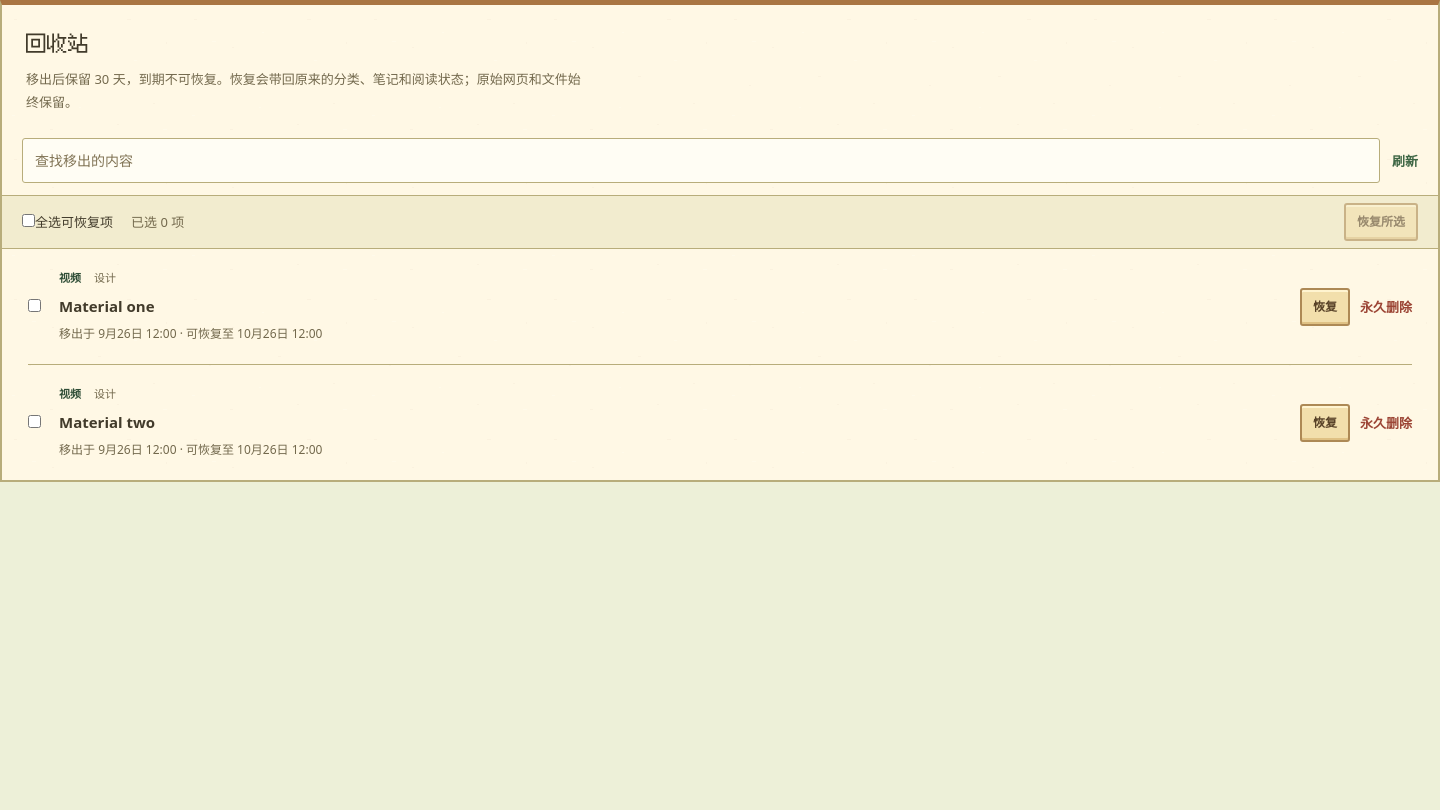
Test: reading recycle bin › keeps the selection after restore fails so the same item can be retried
What coordinates should you click on to do the following:
click the checkbox named "恢复选择：Material one"
I would click on:
 (34, 306)
Its box is left=28, top=299, right=41, bottom=312.
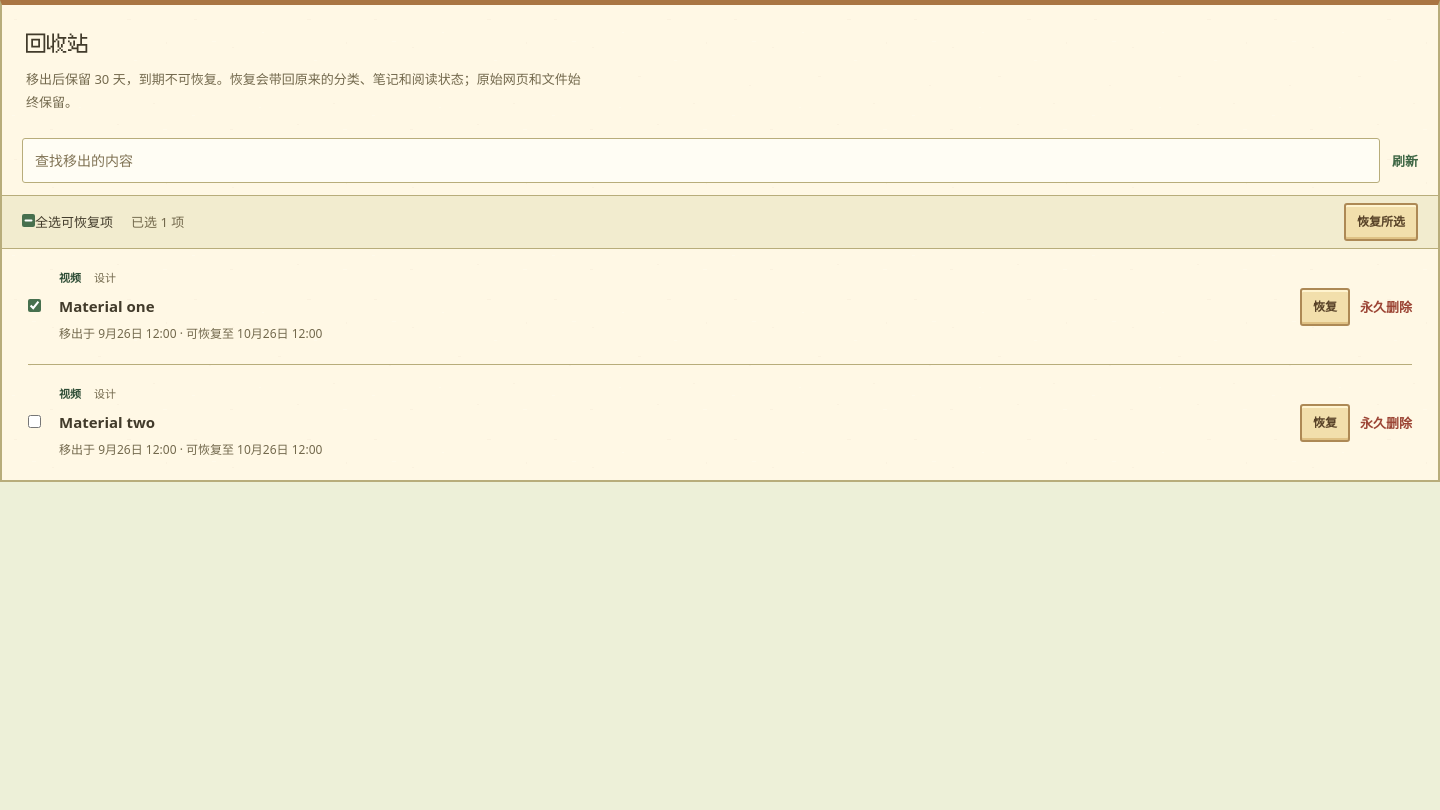
What coordinates should you click on to do the following:
click the button "恢复所选"
I would click on:
 (1381, 222)
Its box is left=1344, top=203, right=1418, bottom=241.
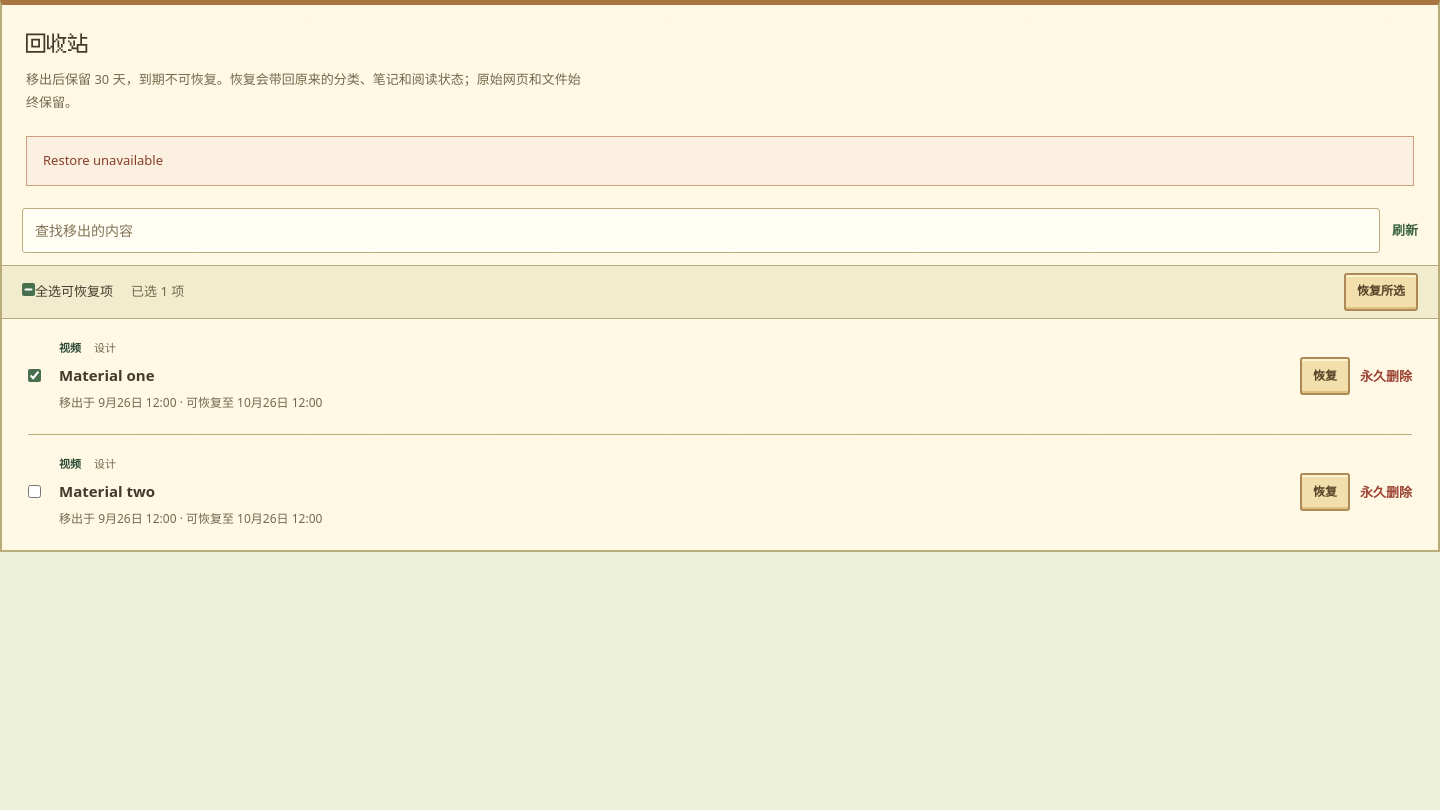
Expected: the checkbox named "恢复选择：Material one" is checked, left=28, top=369, right=41, bottom=382
Expected: the message "Restore unavailable" is shown, left=26, top=136, right=1414, bottom=186
What coordinates should you click on to do the following:
click the button "恢复所选"
I would click on:
 (1381, 292)
Its box is left=1344, top=273, right=1418, bottom=311.
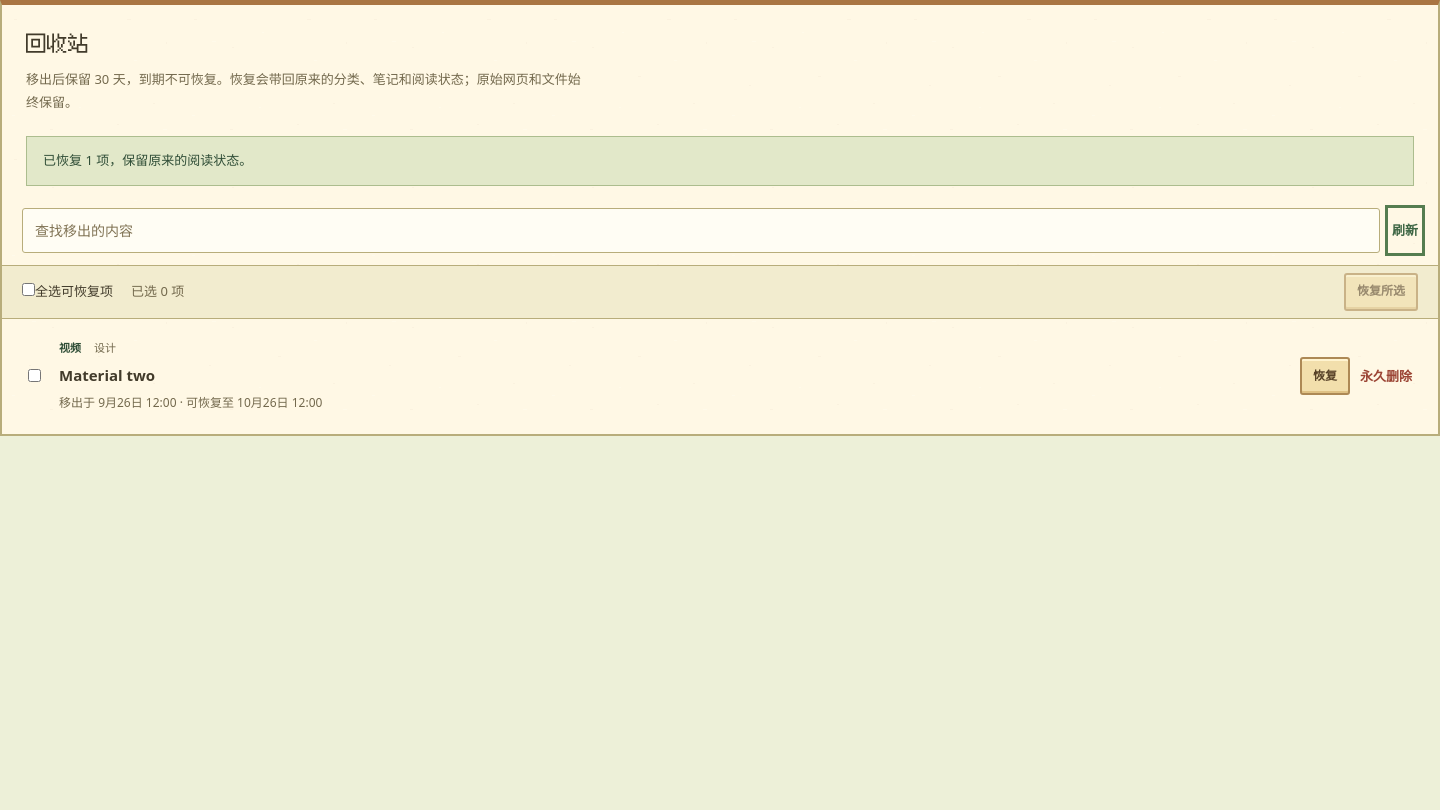
Expected: the text "Material one" is gone
